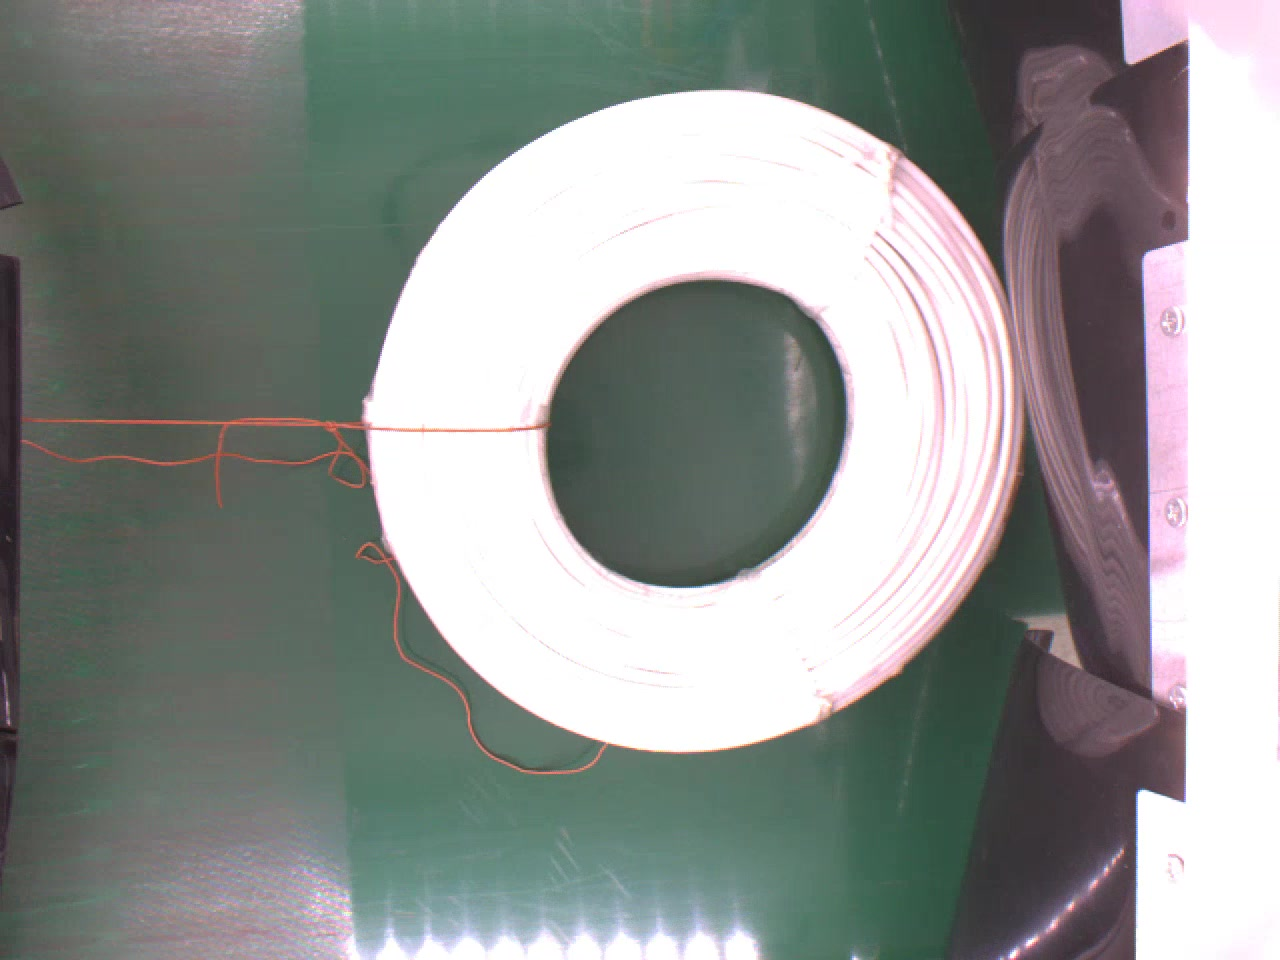white: (359, 85, 1040, 750)
